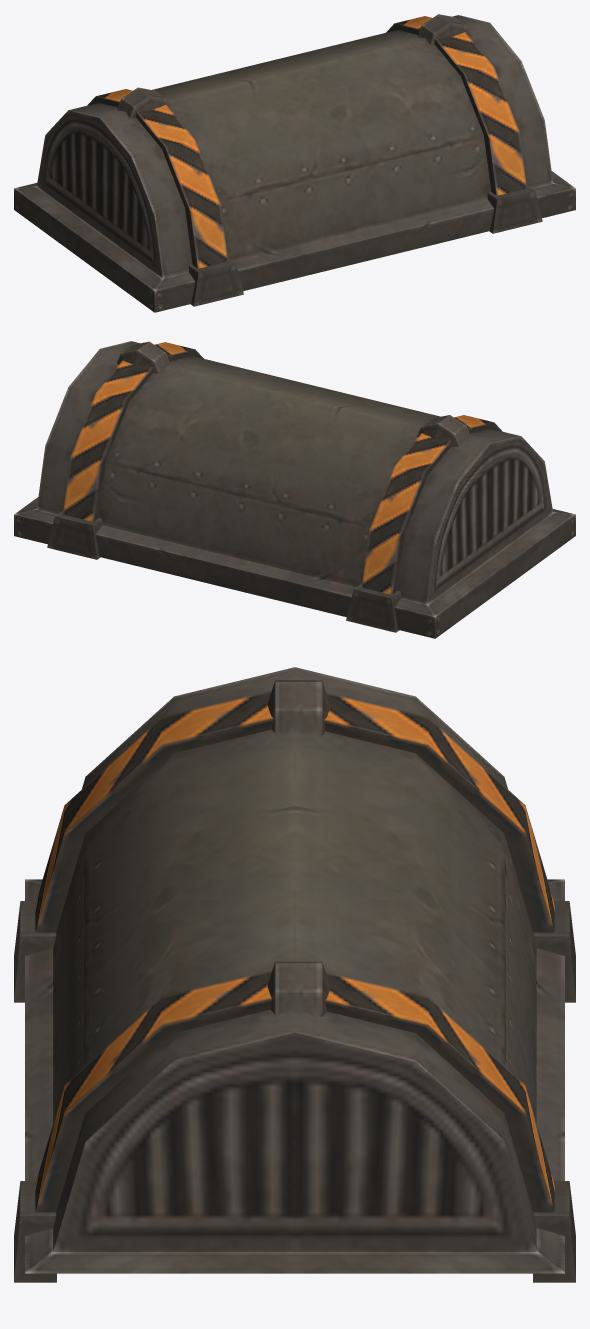
File: pipe_2.FBX
3 views of the same model, one above another, from view 1: azimuth 30°, elevation 25°; view 2: azimuth 150°, elevation 25°; view 3: azimuth 270°, elevation 25° (orthographic). The views are drawn at different scales.
Parts seen in each view (by area): view 1: pipe_2; view 2: pipe_2; view 3: pipe_2.
Boxes of the visible parts, left/top/right/bottom form: pipe_2: left=14, top=14, right=575, bottom=312; pipe_2: left=14, top=341, right=575, bottom=638; pipe_2: left=14, top=667, right=575, bottom=1282.
Bounding box in the file's own units: 117 × 41.14 × 70.62.
